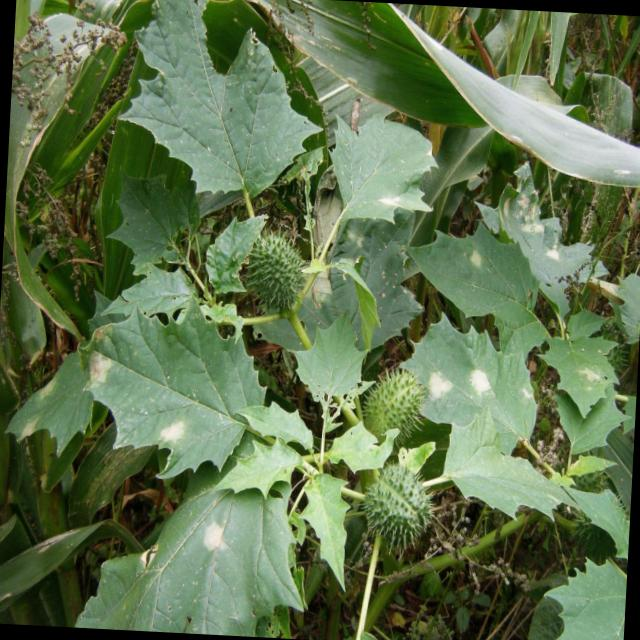Poisonous-Datura_Stramonium: (126, 173, 640, 640)
